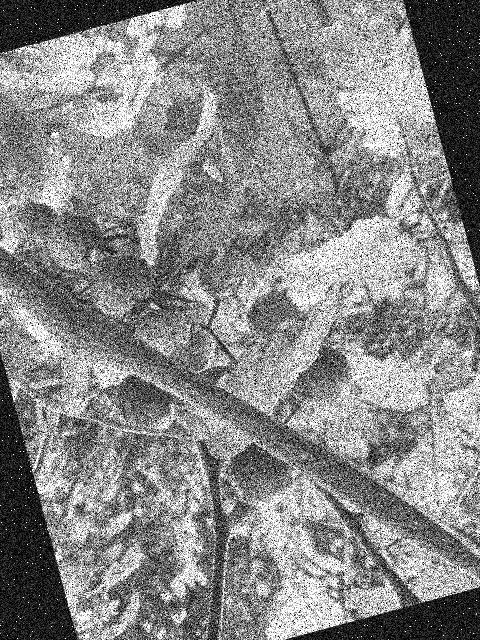l_fully_ripened: (222, 432, 307, 515), (109, 365, 184, 442)
l_green: (41, 205, 110, 278), (191, 241, 252, 305), (131, 303, 195, 363), (6, 197, 65, 256), (242, 286, 304, 340), (162, 325, 219, 379)
l_half_ripened: (83, 245, 164, 327), (276, 339, 360, 417)
